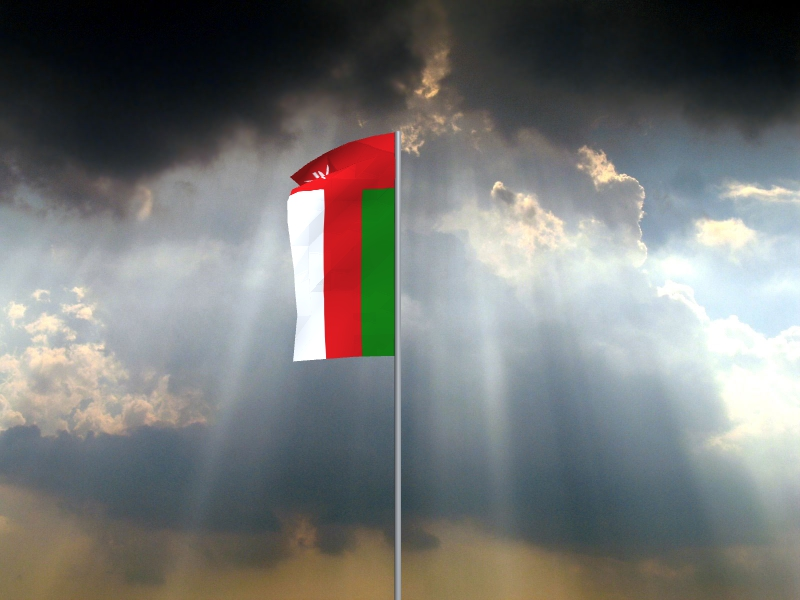om: (287, 134, 396, 363)
